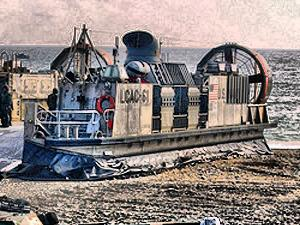tanks: (1, 195, 53, 225), (148, 221, 220, 225)
